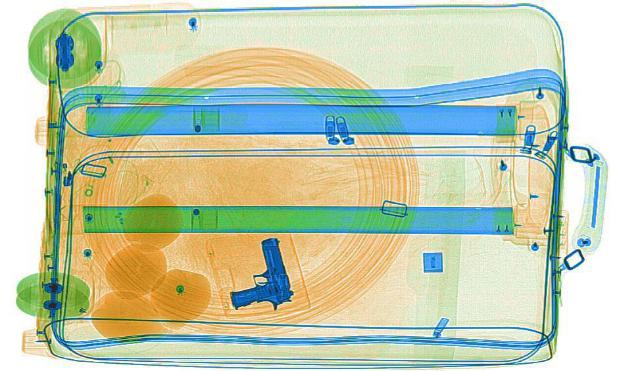Gun: (212, 236, 298, 311)
